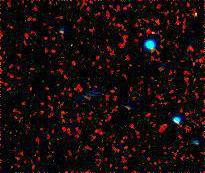star: (182, 2, 205, 32)
